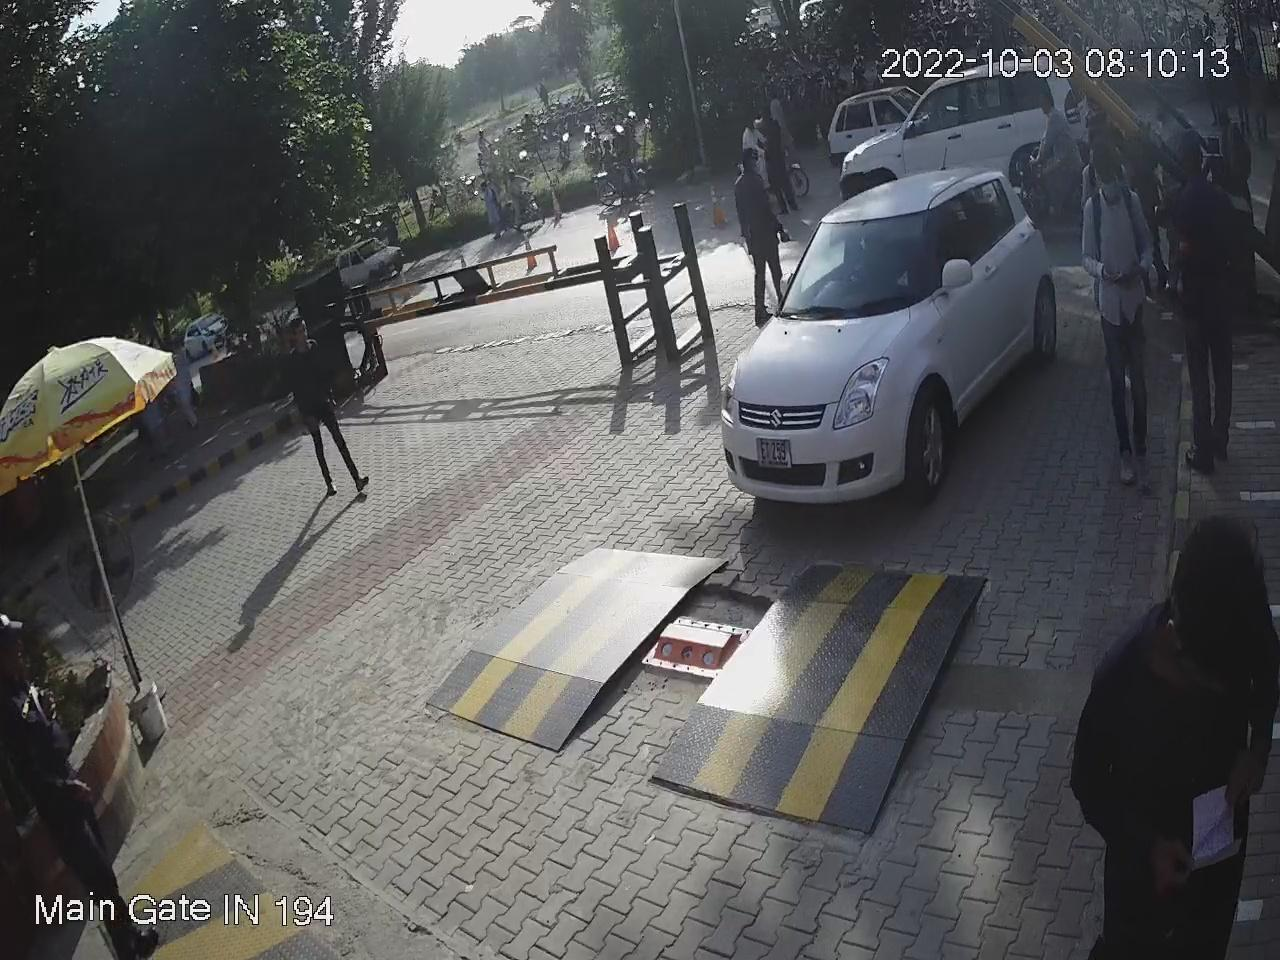windshield: (768, 205, 926, 323)
